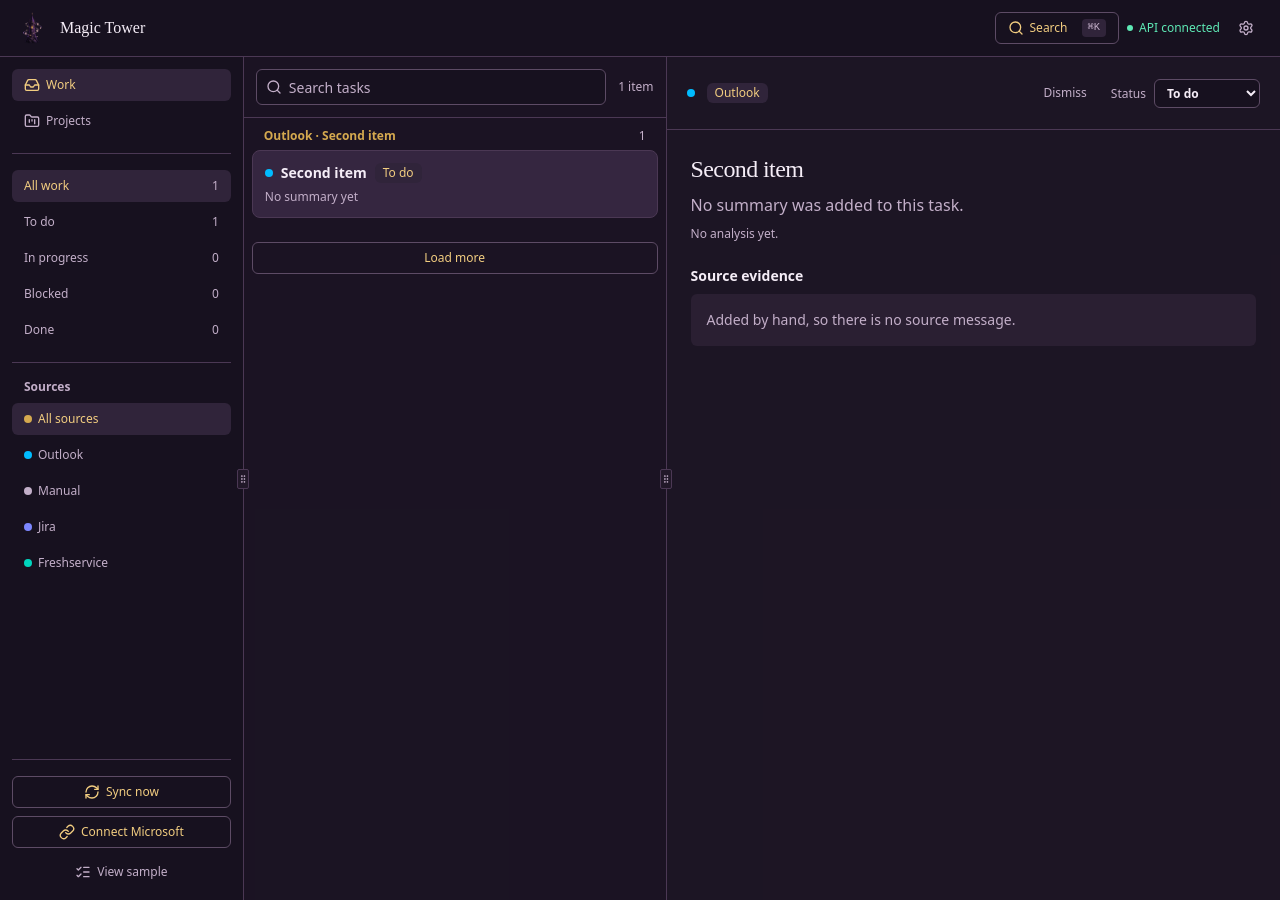
Promote and dismiss › dismissed rows delivered inside a page still count toward the next Load more offset
The width and height of the screenshot is (1280, 900).
Check: the text "Second item" is shown, box [281,163,367,183]
Click the button "Load more".
click(455, 258)  # box [252,242,658,274]
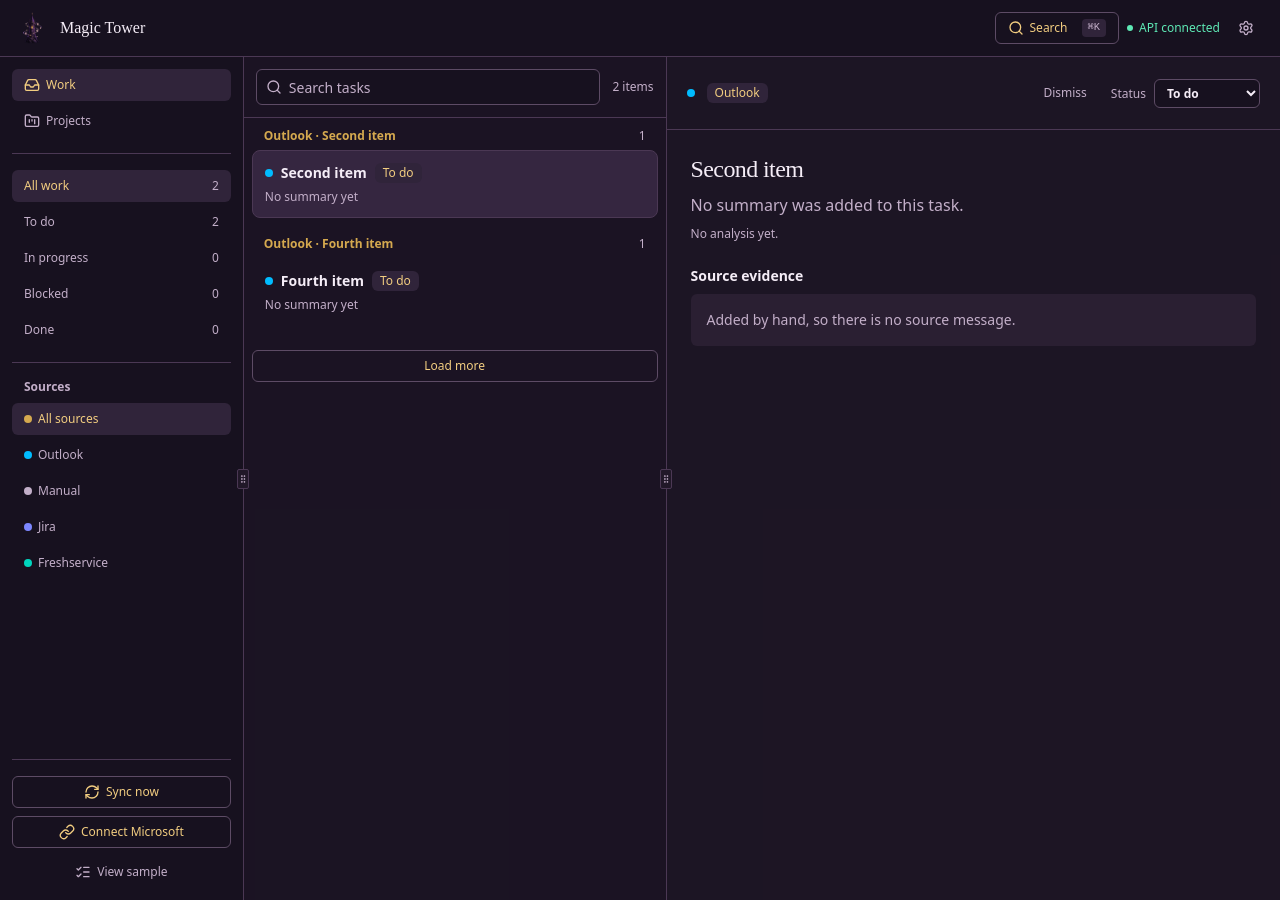
Check: the text "Fourth item" is shown, box [281,271,364,291]
Click the button "Load more".
click(455, 366)  # box [252,350,658,382]
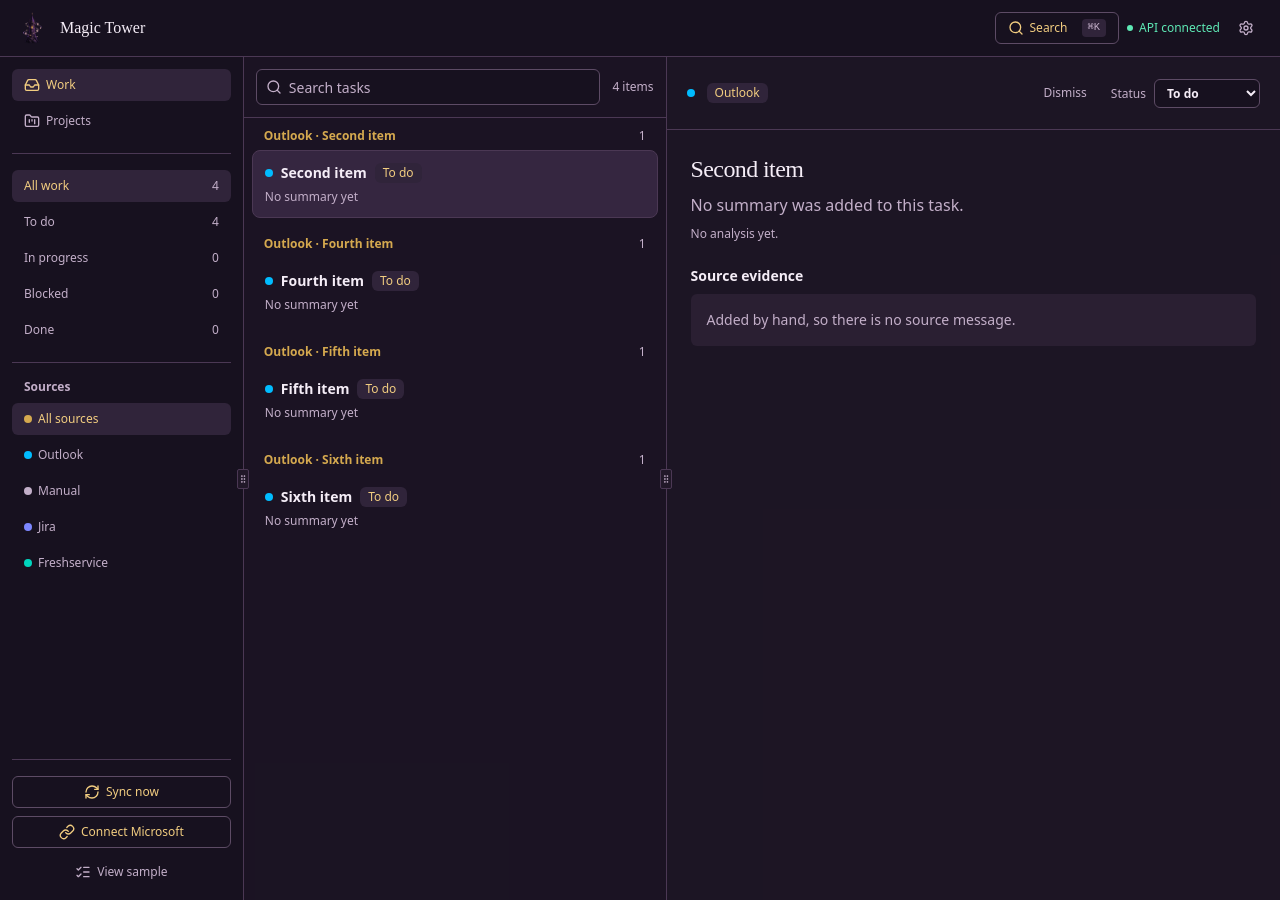
Check: the text "Sixth item" is shown, box [281,487,352,507]
Check: the text "Fourth item" is shown once, box [281,271,364,291]
Check: the button "Load more" is gone
